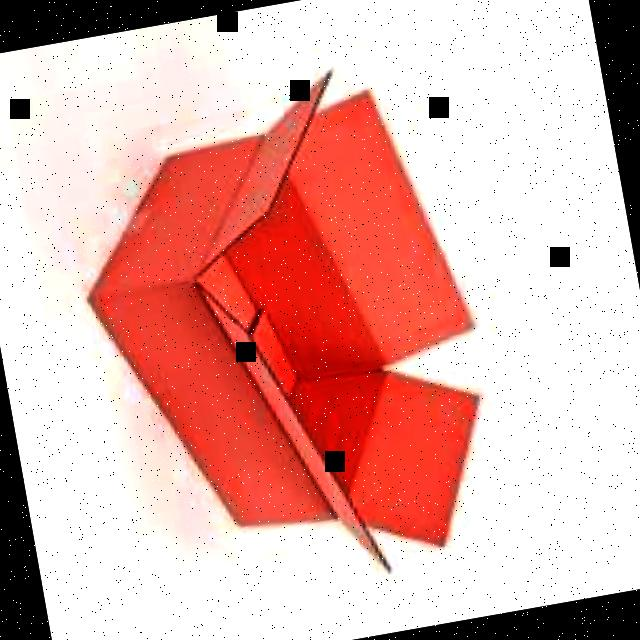cardboard_box: (56, 53, 512, 608)
